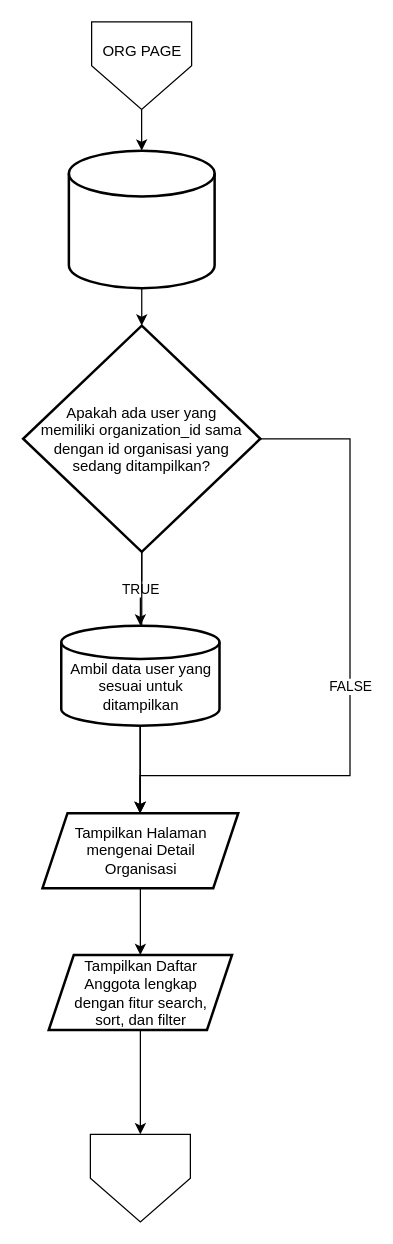
Some shapes in this 393 by 1244 pixel diagram are drawn without their labels. Here are the shapes that lost their labels. From the top down, the centre of each, then its label:
the point at 141,219: Ambil data Organisasi sesuai id organisasi yang dipilih
the point at 139,1177: UTAMA
